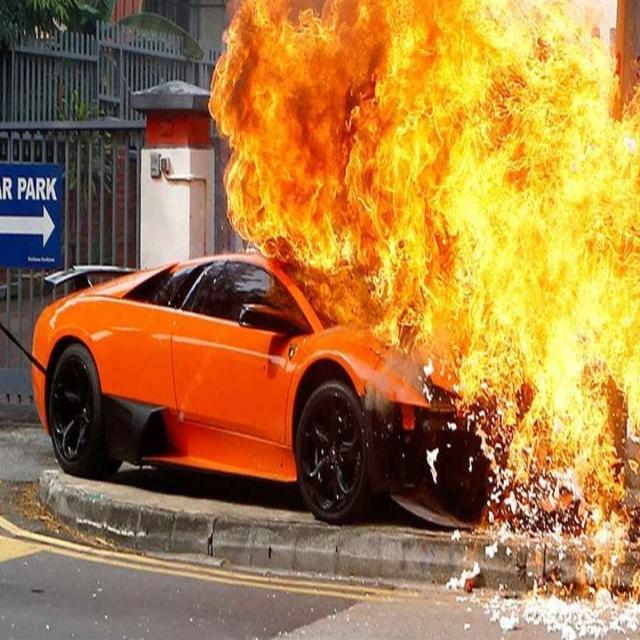Fire: (209, 0, 639, 250), (429, 252, 640, 490), (308, 249, 428, 349)
